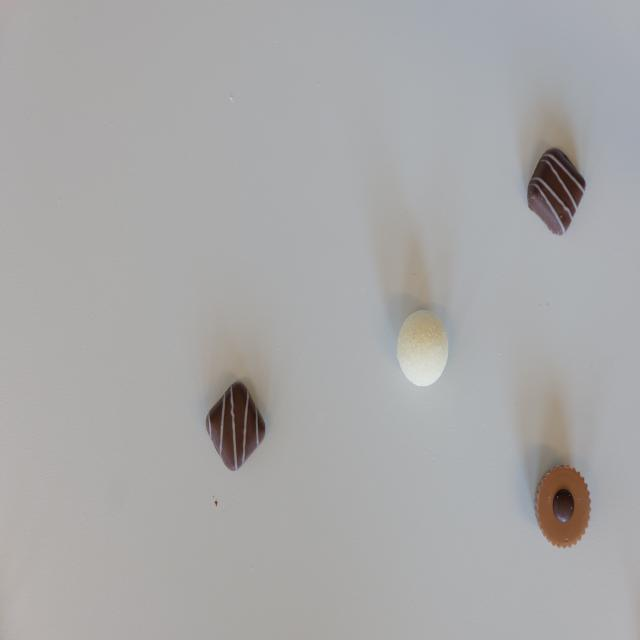Comtesse: (397, 312, 448, 387)
Noblesse: (534, 465, 591, 548)
Stracciatella: (207, 382, 266, 472), (527, 147, 586, 237)
